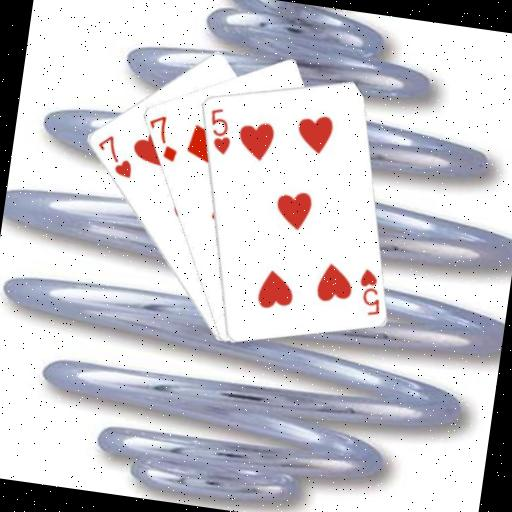5H: (202, 103, 236, 157), (352, 264, 386, 318)
7D: (142, 111, 183, 165)
7H: (90, 131, 138, 181)
